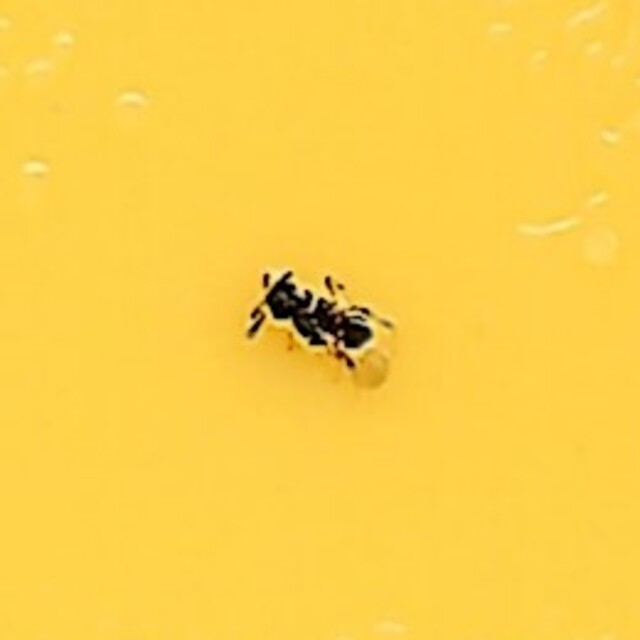Hymenoptera: (246, 263, 394, 377)
